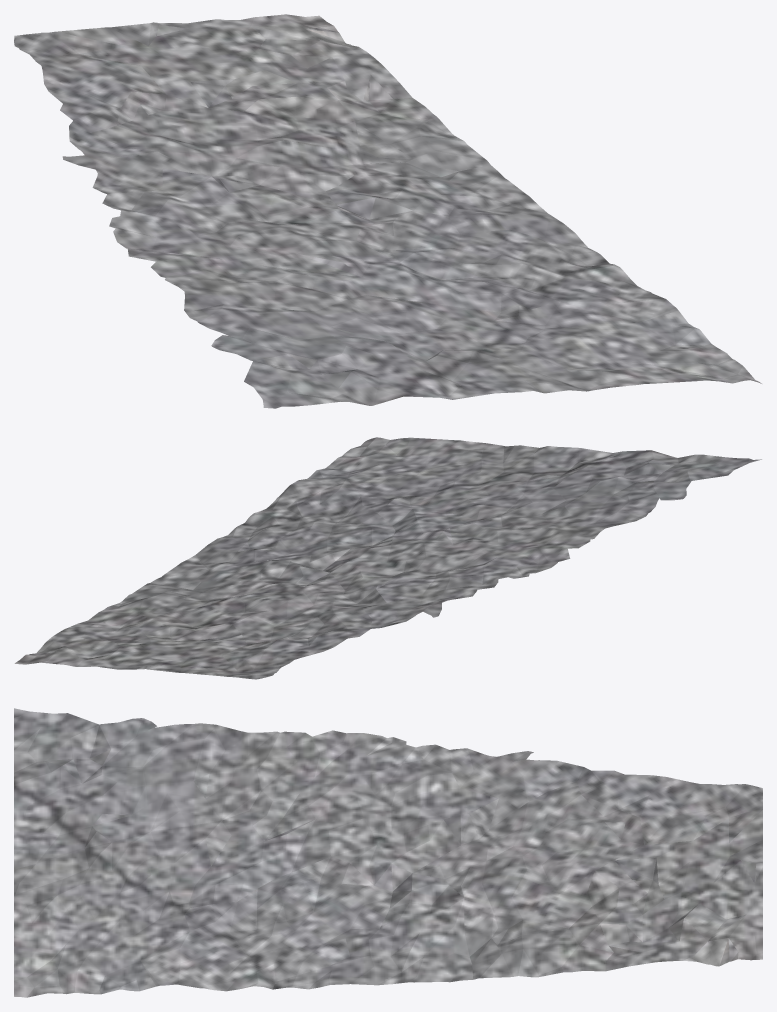
3 views of the same model, one above another, from view 1: azimuth 30°, elevation 25°; view 2: azimuth 150°, elevation 25°; view 3: azimuth 270°, elevation 25° (orthographic). The views are drawn at different scales.
Size of the model in its own units: 0.544 by 0.1035 by 0.8373.
1 material, 1 textured.
